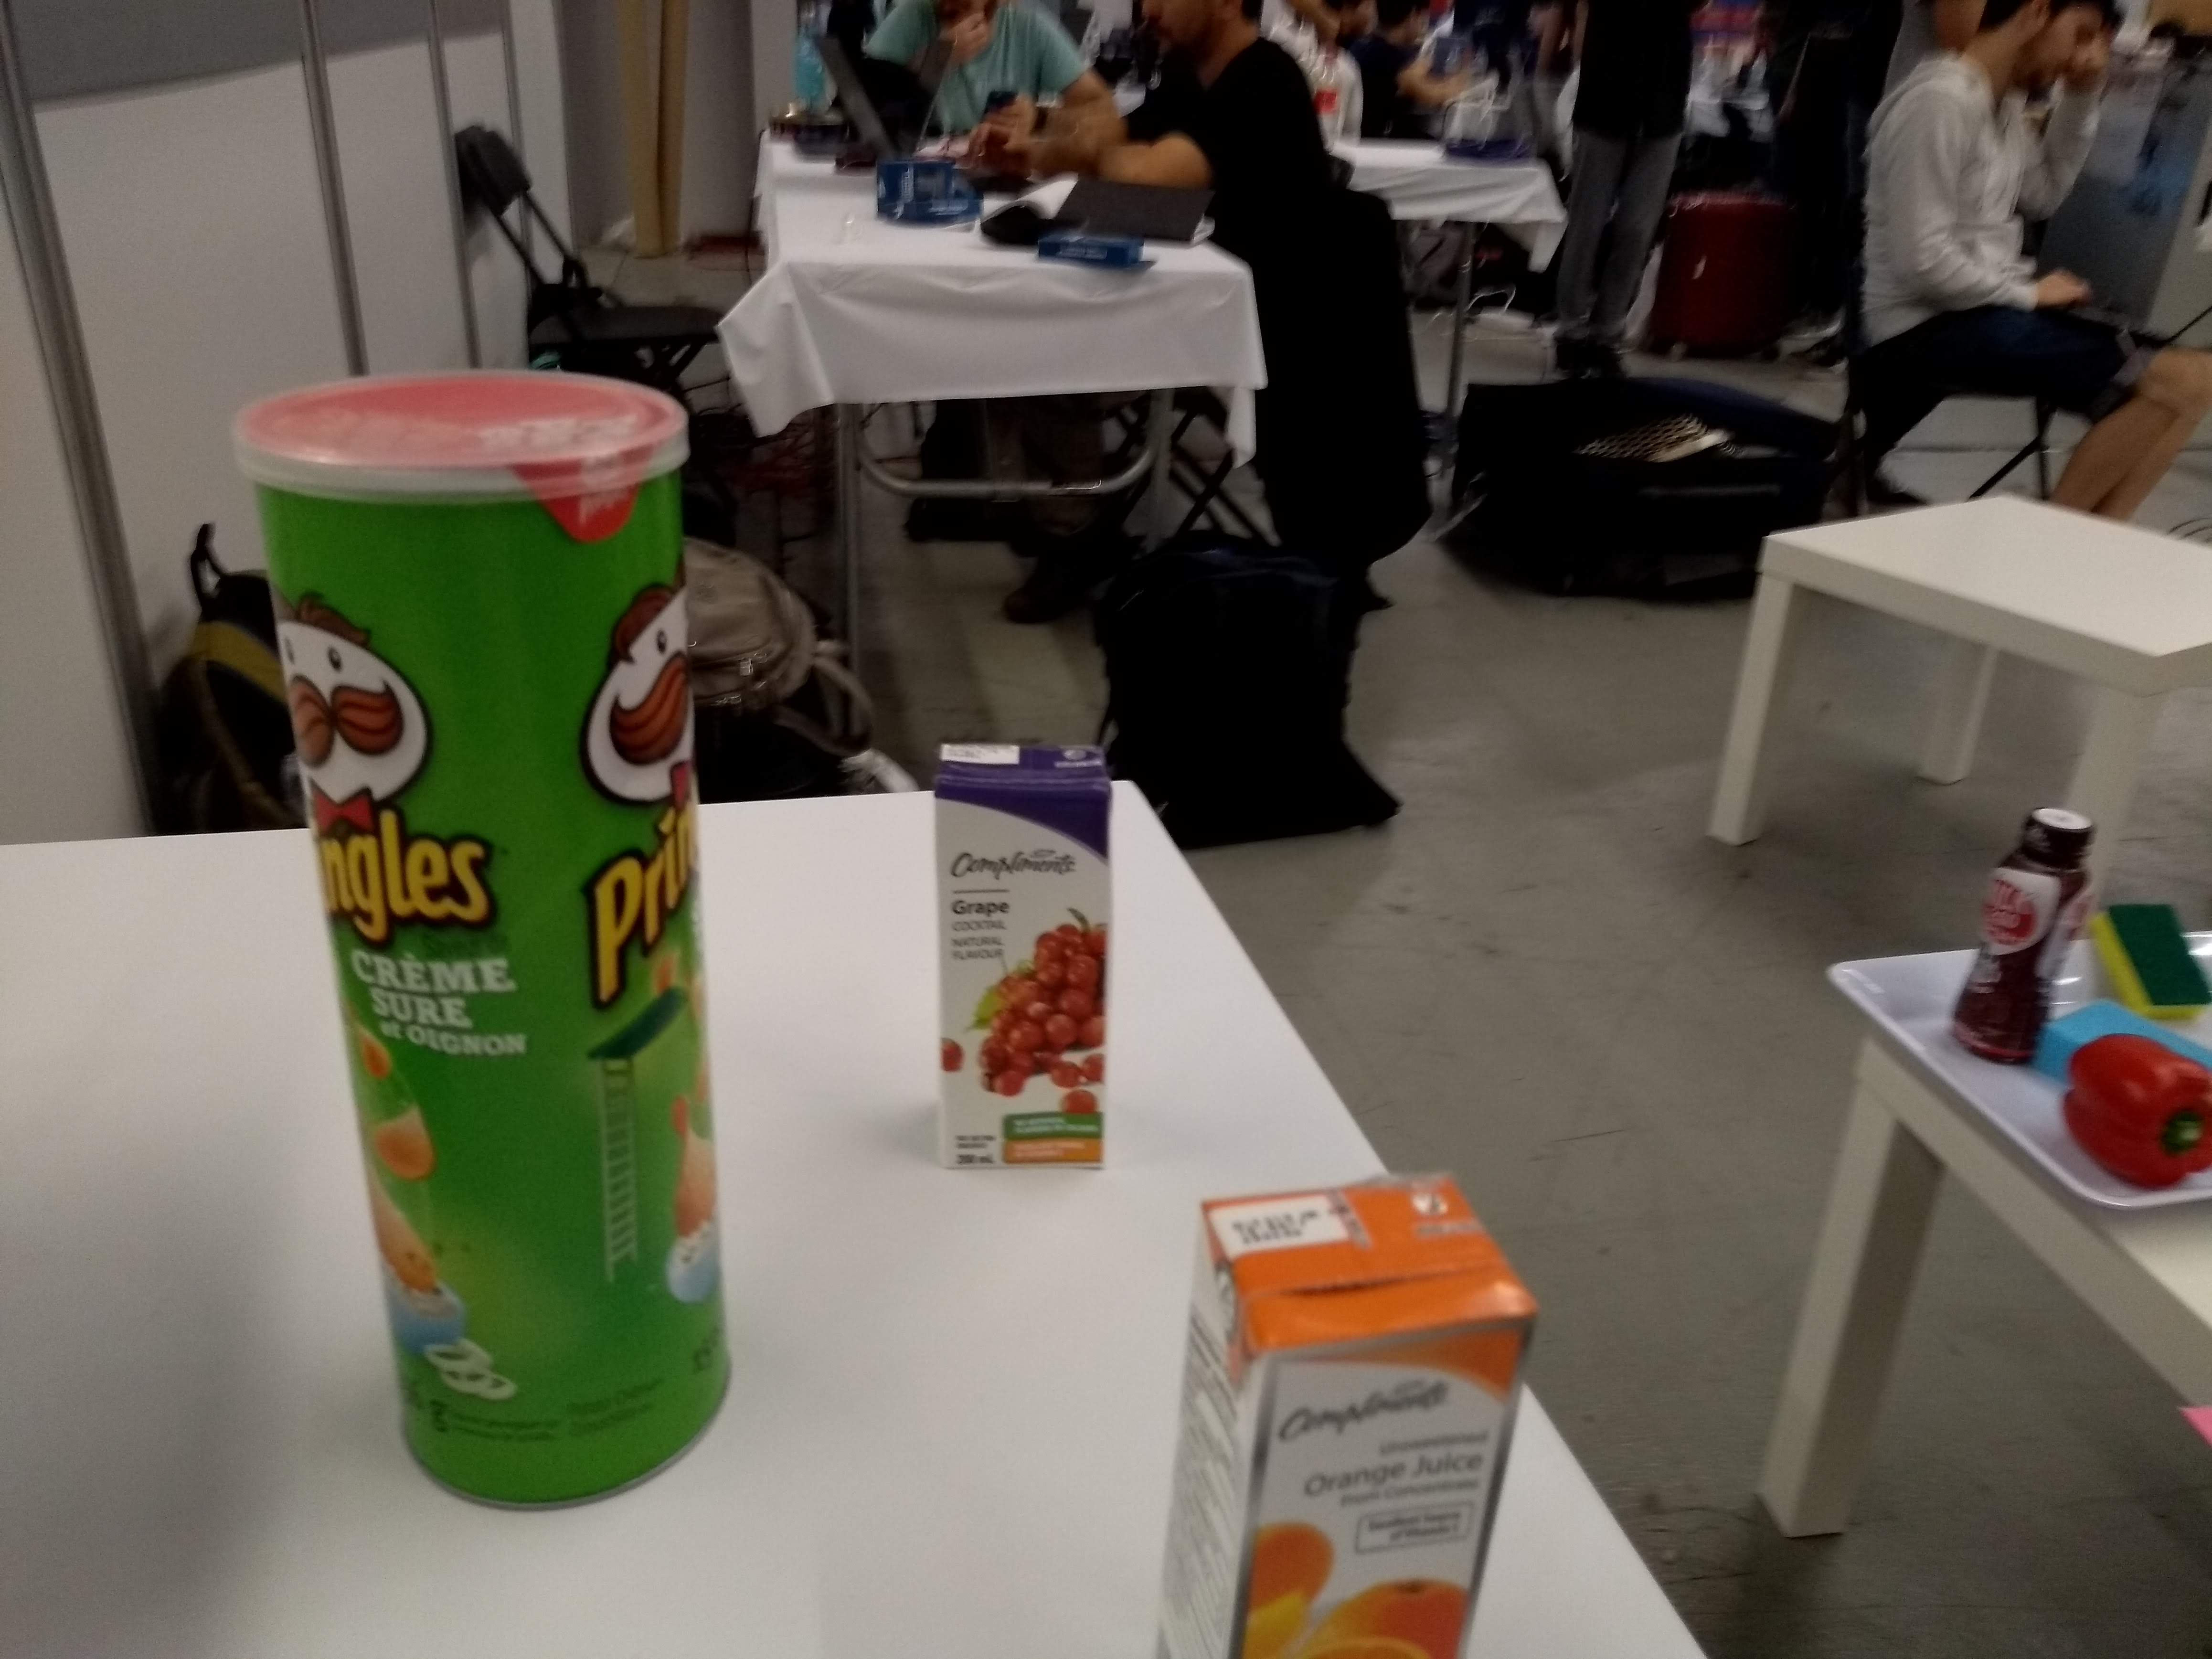chocolate_drink: (1946, 796, 2104, 1086)
grape_juice: (911, 720, 1134, 1187)
orange_juice: (1139, 1157, 1550, 1659)
paprika: (2060, 1030, 2212, 1199)
pringles: (218, 361, 747, 1523)
